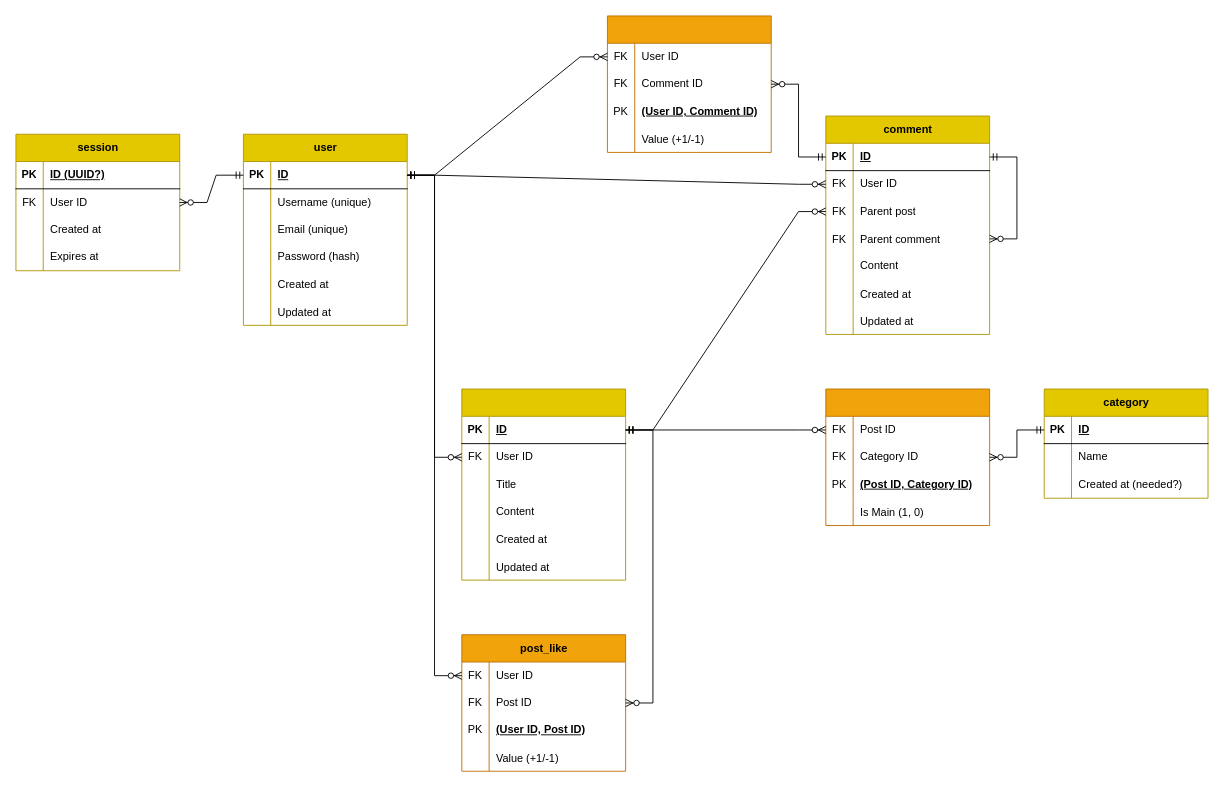
Image size: 1224x787. Some labels were removed from this diagram. The shapes that lost their labels are listed below. From the top down, each one's box as (x1, y1, x2, y2) in pixels, then its label:
(607, 15, 771, 152): comment_like
(825, 388, 990, 526): post_category
(461, 388, 626, 580): post
